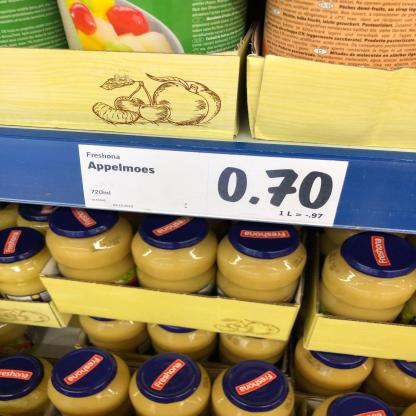prtg: (79, 145, 350, 228)
